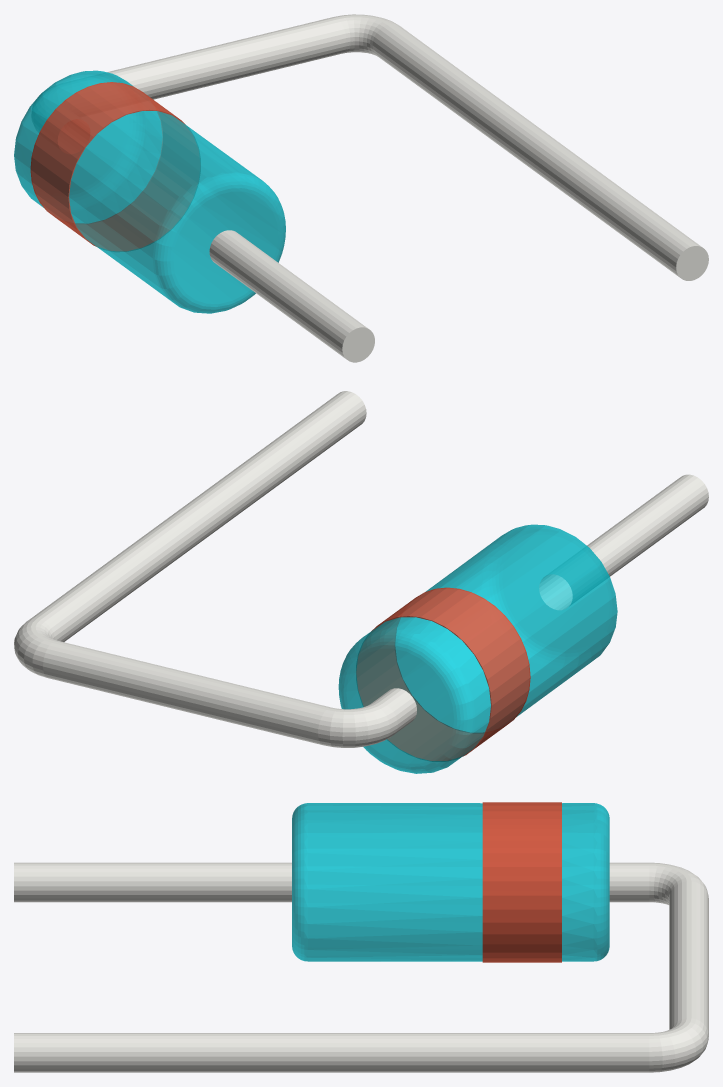
File: D_DO-35_SOD27_P5.08mm_Vertical_KathodeUp.glb
3 views of the same model, one above another, from view 1: azimuth 30°, elevation 25°; view 2: azimuth 150°, elevation 25°; view 3: azimuth 270°, elevation 25° (orthographic). The views are drawn at different scales.
Visible parts, largest first — view 1: Shape_IndexedFaceSet.012, Shape_IndexedFaceSet, Shape_IndexedFaceSet.010, Shape_IndexedFaceSet.003, Shape_IndexedFaceSet.014, Shape_IndexedFaceSet.015, Shape_IndexedFaceSet.013, Shape_IndexedFaceSet.008, Shape_IndexedFaceSet.007, Shape_IndexedFaceSet.006, Shape_IndexedFaceSet.002, Shape_IndexedFaceSet.016 (+2 smaller); view 2: Shape_IndexedFaceSet.012, Shape_IndexedFaceSet, Shape_IndexedFaceSet.010, Shape_IndexedFaceSet.003, Shape_IndexedFaceSet.014, Shape_IndexedFaceSet.015, Shape_IndexedFaceSet.006, Shape_IndexedFaceSet.007, Shape_IndexedFaceSet.008, Shape_IndexedFaceSet.013, Shape_IndexedFaceSet.004, Shape_IndexedFaceSet.002 (+1 smaller); view 3: Shape_IndexedFaceSet.012, Shape_IndexedFaceSet, Shape_IndexedFaceSet.010, Shape_IndexedFaceSet.015, Shape_IndexedFaceSet.003, Shape_IndexedFaceSet.008, Shape_IndexedFaceSet.007, Shape_IndexedFaceSet.013, Shape_IndexedFaceSet.002, Shape_IndexedFaceSet.005, Shape_IndexedFaceSet.004.
Boxes of the visible parts, box(x1,y1,x2,y2) form: Shape_IndexedFaceSet.012: box(69, 111, 283, 312); Shape_IndexedFaceSet: box(372, 23, 702, 277); Shape_IndexedFaceSet.010: box(30, 82, 200, 250); Shape_IndexedFaceSet.003: box(68, 17, 346, 99); Shape_IndexedFaceSet.014: box(173, 191, 278, 303); Shape_IndexedFaceSet.015: box(209, 230, 367, 358); Shape_IndexedFaceSet.013: box(152, 171, 285, 313); Shape_IndexedFaceSet.008: box(16, 71, 162, 223); Shape_IndexedFaceSet.007: box(14, 70, 146, 211); Shape_IndexedFaceSet.006: box(22, 81, 126, 191); Shape_IndexedFaceSet.002: box(334, 14, 397, 56); Shape_IndexedFaceSet.016: box(342, 327, 374, 362); Shape_IndexedFaceSet.012: box(395, 525, 615, 732); Shape_IndexedFaceSet: box(29, 391, 366, 641); Shape_IndexedFaceSet.010: box(356, 587, 530, 760); Shape_IndexedFaceSet.003: box(43, 640, 330, 744); Shape_IndexedFaceSet.014: box(502, 535, 609, 649); Shape_IndexedFaceSet.015: box(539, 474, 708, 609); Shape_IndexedFaceSet.006: box(346, 648, 454, 763); Shape_IndexedFaceSet.007: box(338, 628, 475, 773); Shape_IndexedFaceSet.008: box(341, 617, 490, 772); Shape_IndexedFaceSet.013: box(481, 524, 617, 669); Shape_IndexedFaceSet.004: box(318, 702, 397, 747); Shape_IndexedFaceSet.002: box(14, 619, 55, 677); Shape_IndexedFaceSet.012: box(308, 803, 482, 961); Shape_IndexedFaceSet: box(14, 1033, 649, 1072); Shape_IndexedFaceSet.010: box(482, 802, 561, 962); Shape_IndexedFaceSet.015: box(14, 862, 291, 902); Shape_IndexedFaceSet.003: box(669, 881, 708, 1034); Shape_IndexedFaceSet.008: box(562, 803, 593, 961); Shape_IndexedFaceSet.007: box(593, 803, 609, 961); Shape_IndexedFaceSet.013: box(292, 803, 307, 961); Shape_IndexedFaceSet.002: box(649, 1018, 708, 1072); Shape_IndexedFaceSet.005: box(609, 862, 649, 902); Shape_IndexedFaceSet.004: box(649, 862, 707, 904).
Bounding box in the file's own units: 2.5 × 0.7945 × 3.44.
